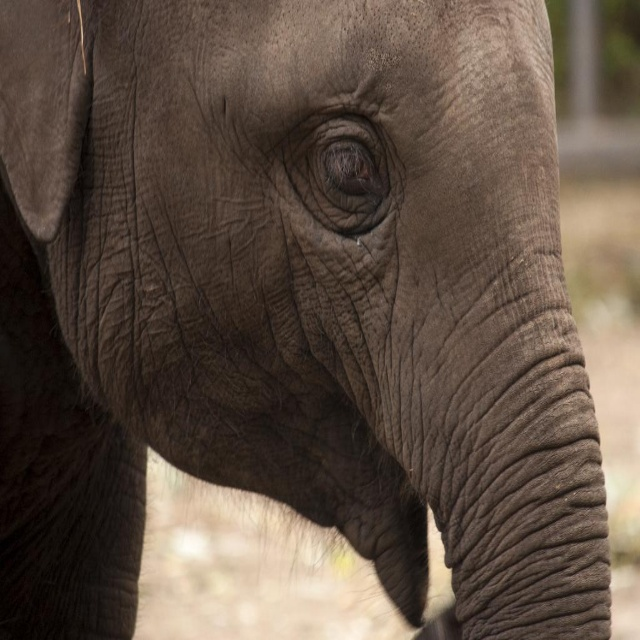Elephant: (0, 0, 610, 639)
